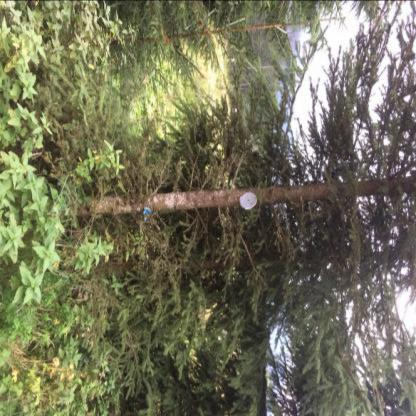Lid: (239, 192, 257, 209)
Unlabeled litter: (143, 207, 152, 221)
